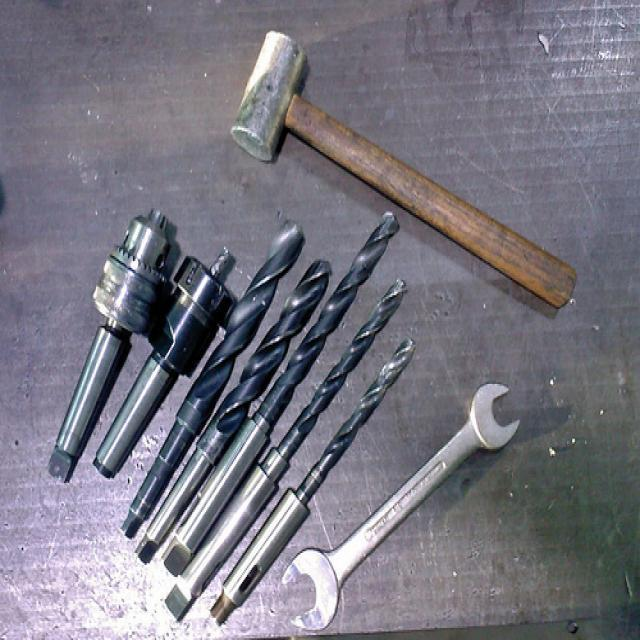hammer: (227, 17, 596, 310)
wrench: (280, 378, 528, 637)
